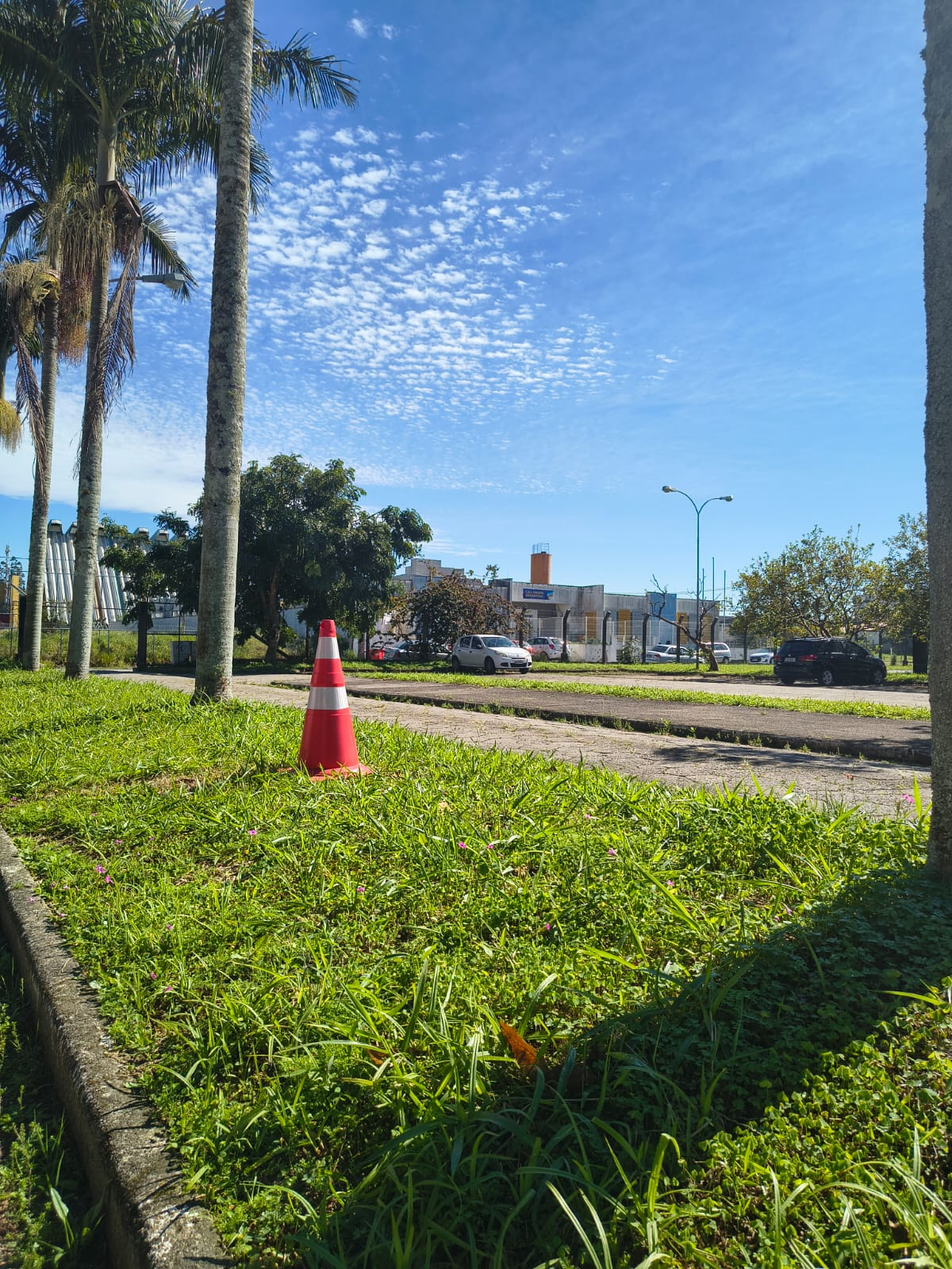cone: (291, 614, 364, 777)
